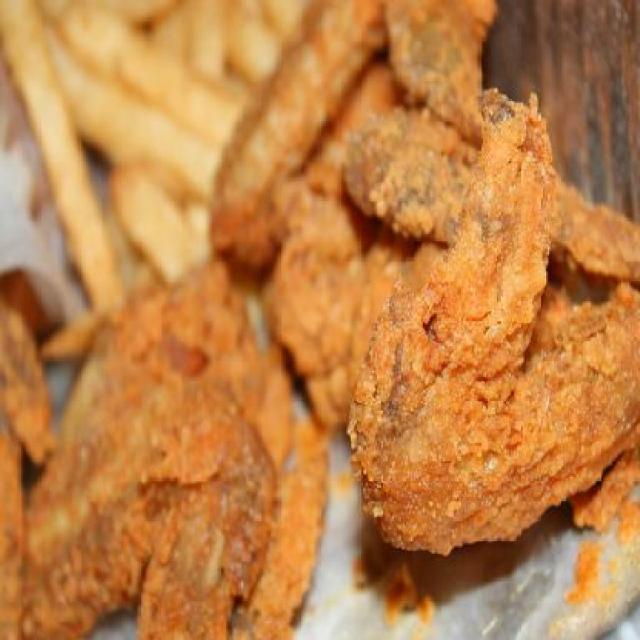Deep fried chicken wing: (97, 49, 617, 626)
